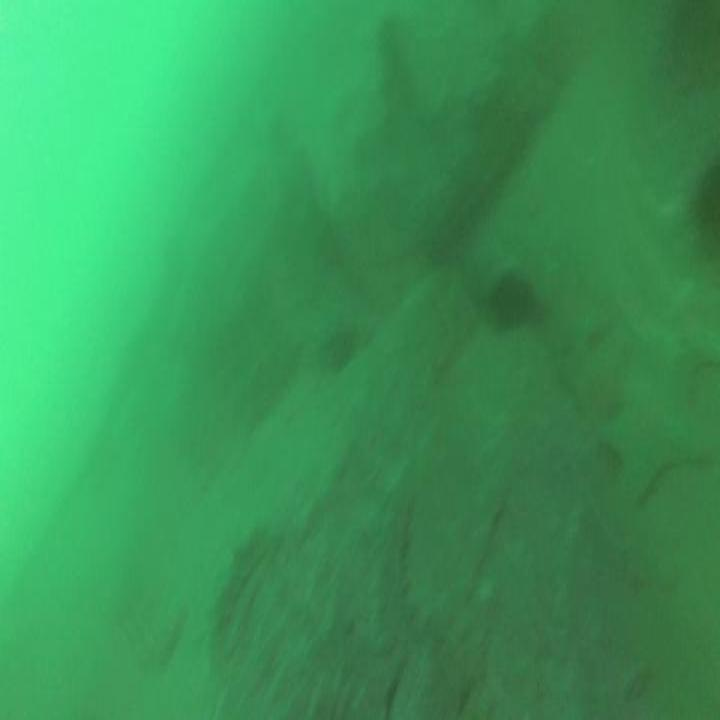echinus: (483, 258, 537, 336)
holothurian: (212, 521, 272, 647)
starfish: (597, 348, 720, 516)
